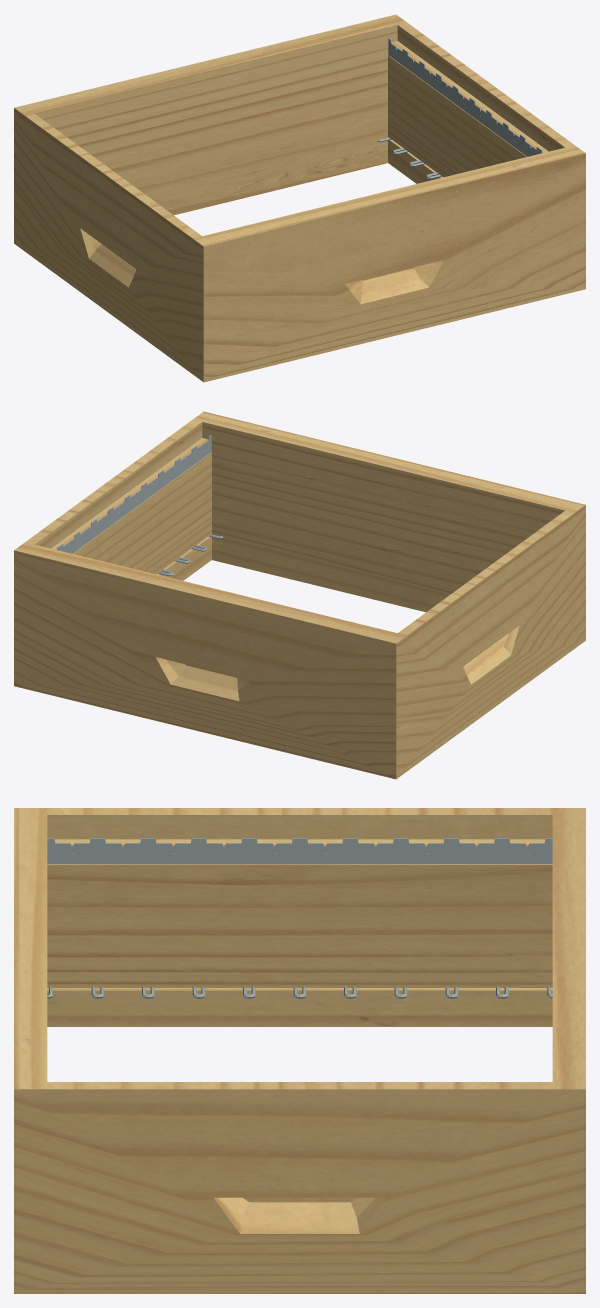
File: rehausse_de_ruche.fbx
3 renders of one model, top to bottom at view 1: azimuth 30°, elevation 25°; view 2: azimuth 150°, elevation 25°; view 3: azimuth 270°, elevation 25°, orthographic. The views are drawn at different scales.
Visible parts, largest first — view 1: Boite en bois, Lamelle de metal.001; view 2: Boite en bois, Lamelle de metal.001; view 3: Boite en bois, Lamelle de metal.003, Tige de metal.
Boxes of the visible parts, x1,y1,x2,y2 form: Boite en bois: (14, 14, 585, 382); Lamelle de metal.001: (388, 38, 542, 156); Boite en bois: (14, 411, 585, 779); Lamelle de metal.001: (57, 435, 211, 553); Boite en bois: (14, 808, 585, 1293); Lamelle de metal.003: (47, 838, 552, 863); Tige de metal: (47, 987, 552, 998).
Size of the model in its own units: 50 by 16.98 by 43.
